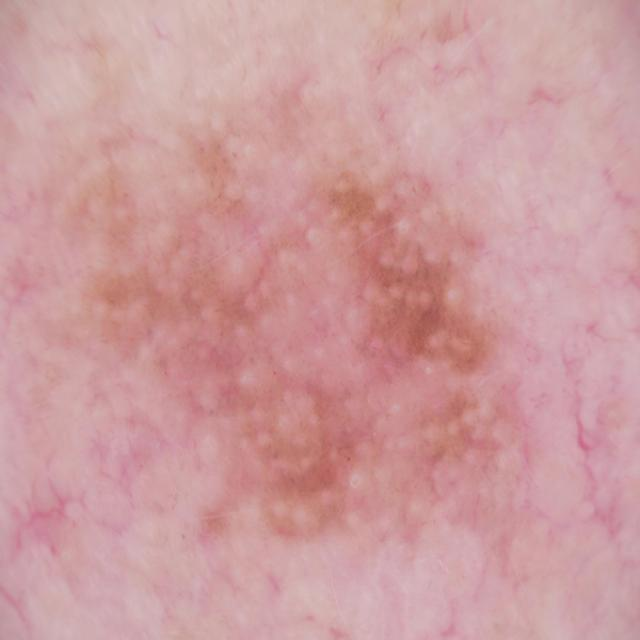Skin-Cancer Pigmented benign keratosis: (24, 0, 634, 628)
